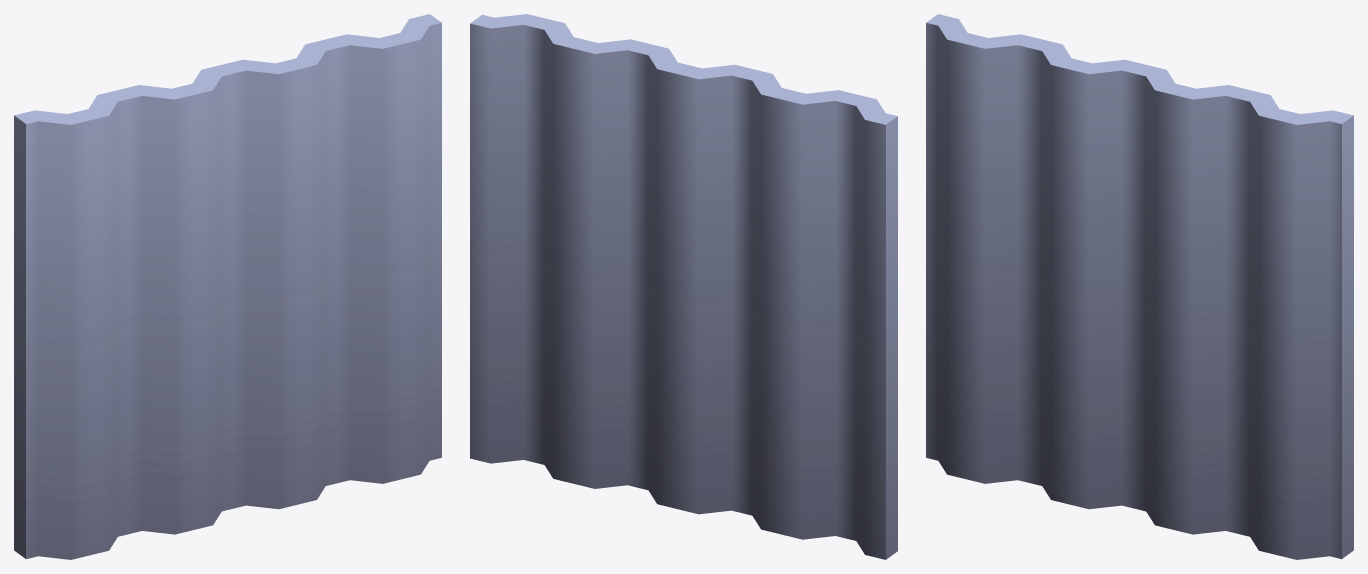
The model's file is metal_panel.glb.
3 renders of one model, left to right at view 1: azimuth 30°, elevation 25°; view 2: azimuth 150°, elevation 25°; view 3: azimuth 330°, elevation 25°, orthographic.
Visible parts, largest first — view 1: metal-panel; view 2: metal-panel; view 3: metal-panel.
Part boxes in pixels (x1,y1,x2,y2): metal-panel: (14, 14, 441, 559); metal-panel: (470, 14, 897, 559); metal-panel: (926, 14, 1353, 559).
Bounding box in the file's own units: 0.5 × 0.5 × 0.05.
1 material, 1 textured.
